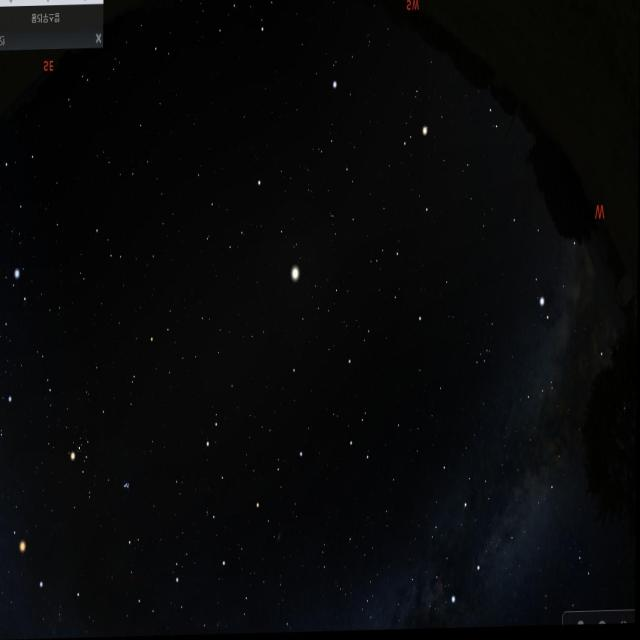cygnus: (437, 503, 546, 631)
pleiades: (119, 468, 136, 504)
taurus: (63, 403, 139, 517)
